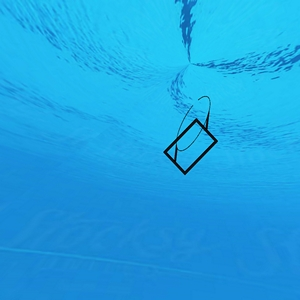circle: (164, 94, 220, 179)
